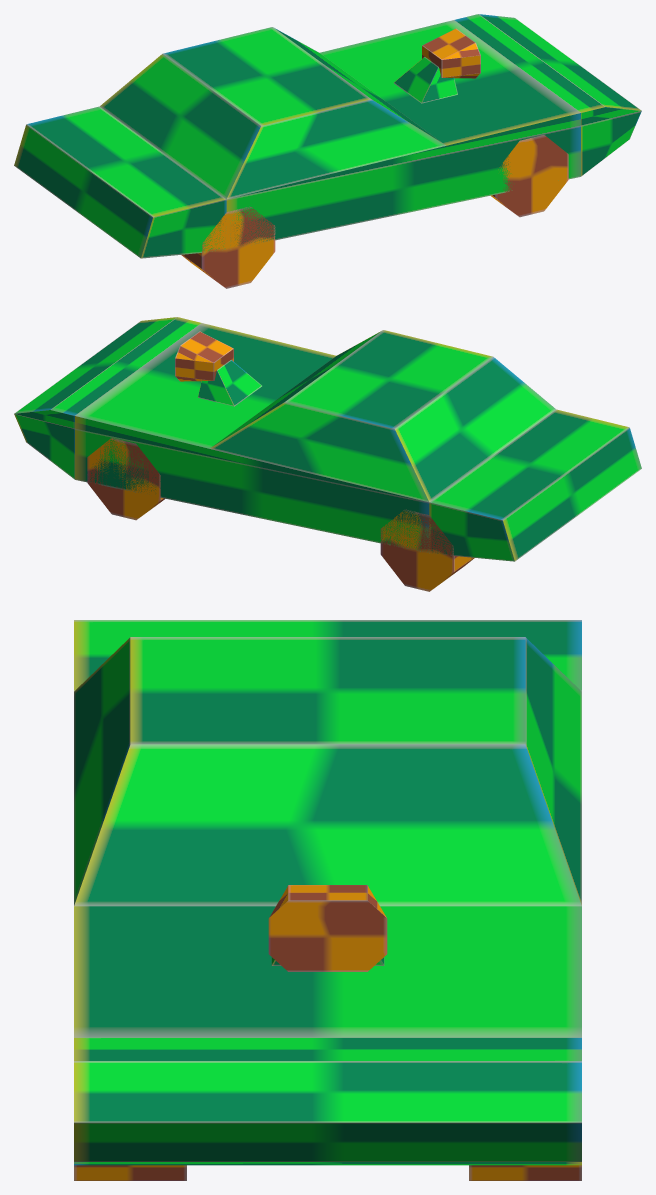
3 renders of one model, top to bottom at view 1: azimuth 30°, elevation 25°; view 2: azimuth 150°, elevation 25°; view 3: azimuth 270°, elevation 25°, orthographic. The views are drawn at different scales.
Visible parts, largest first — view 1: first; view 2: first; view 3: first.
Boxes of the visible parts, x1,y1,x2,y2 form: first: (14,14,641,288); first: (14,317,641,591); first: (74,620,581,1180).
Bounding box in the file's own units: 10.25 × 2.75 × 4.5.
